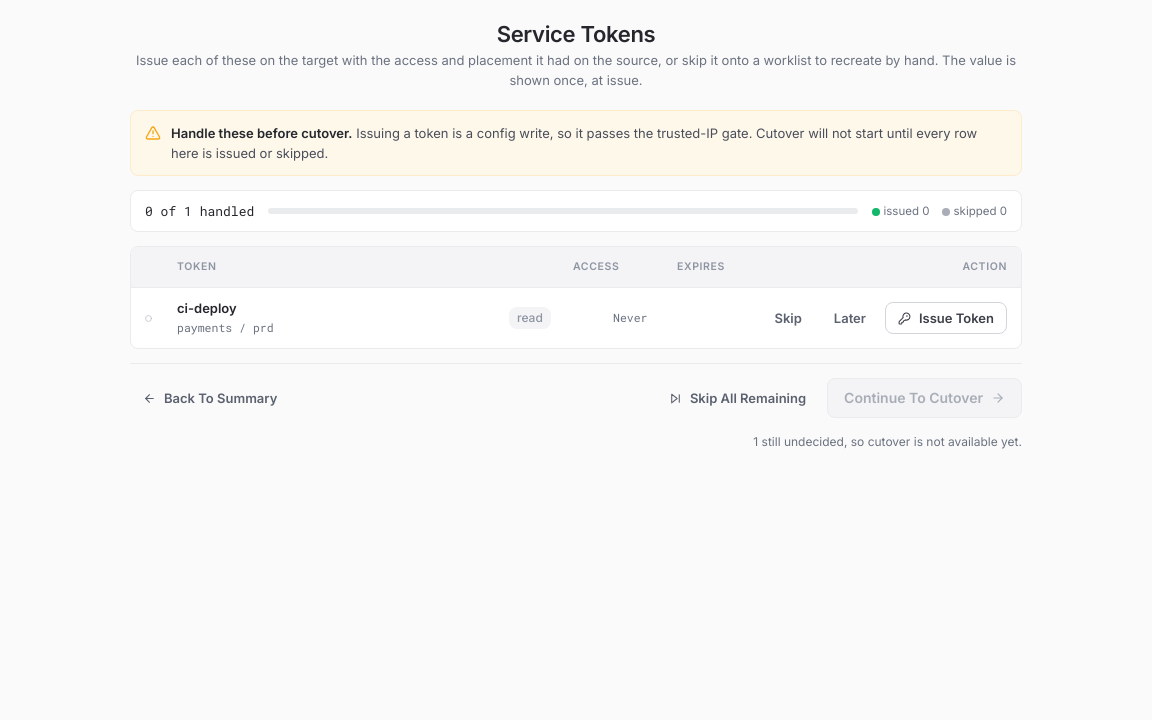
Test: ServiceTokenReportPage › issuing › shows the value once, and says so
Step 1. Click the button "Issue Token" → (946, 318), box x1=885 y1=302 x2=1007 y2=334
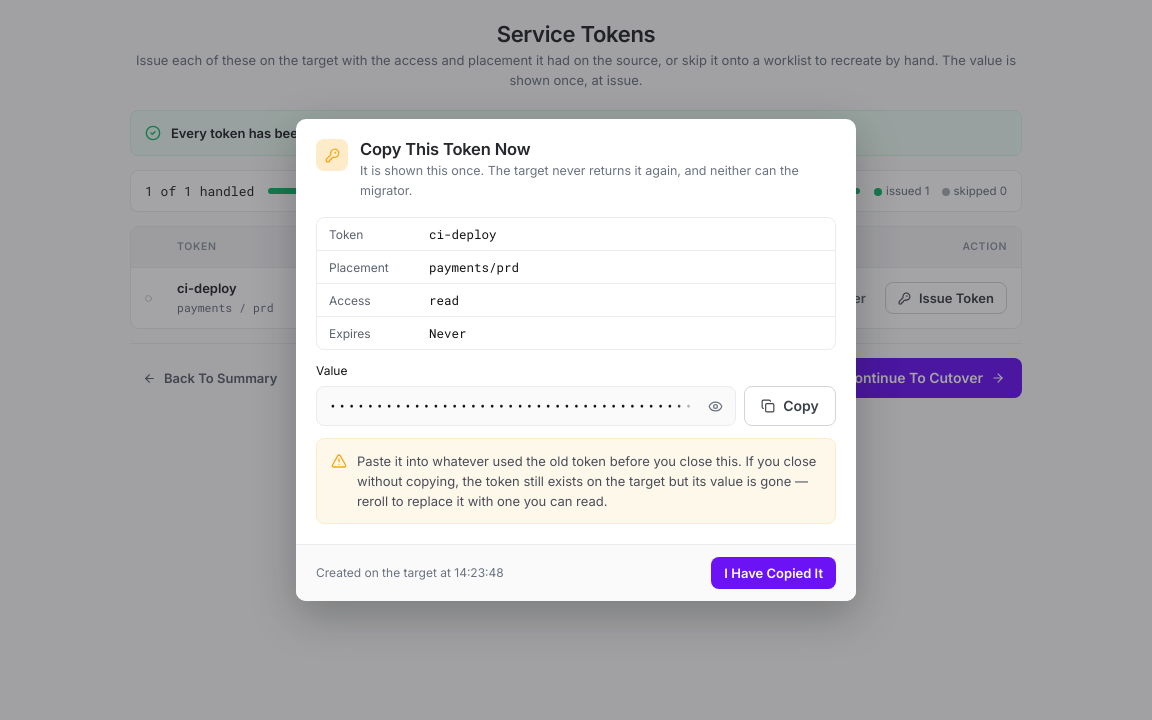
Expected: the text "dp.st.prd.SECRETVALUE" is not shown
Expected: the text "shown this once" is shown, x1=360 y1=163 x2=799 y2=198
Step 2. Click the button named "Show token" → (715, 406), box x1=699 y1=390 x2=731 y2=422
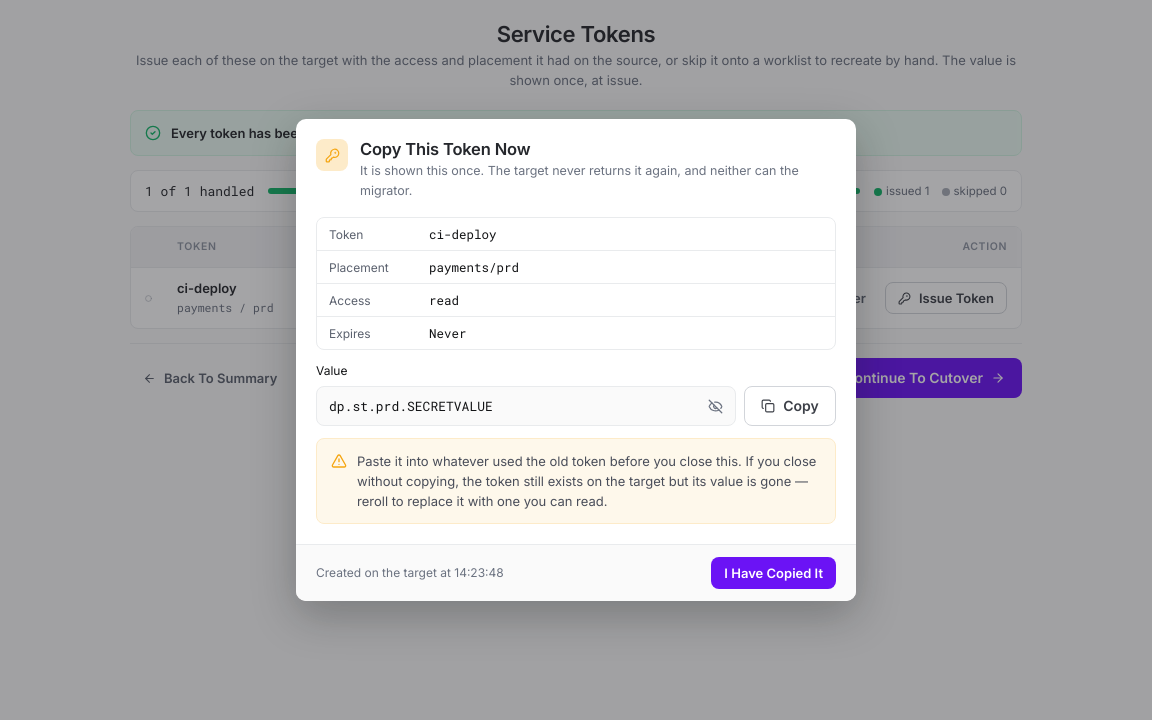
Expected: the text "dp.st.prd.SECRETVALUE" is shown, x1=329 y1=396 x2=493 y2=414
Step 3. Click the button named "Hide token" → (715, 406), box x1=699 y1=390 x2=731 y2=422
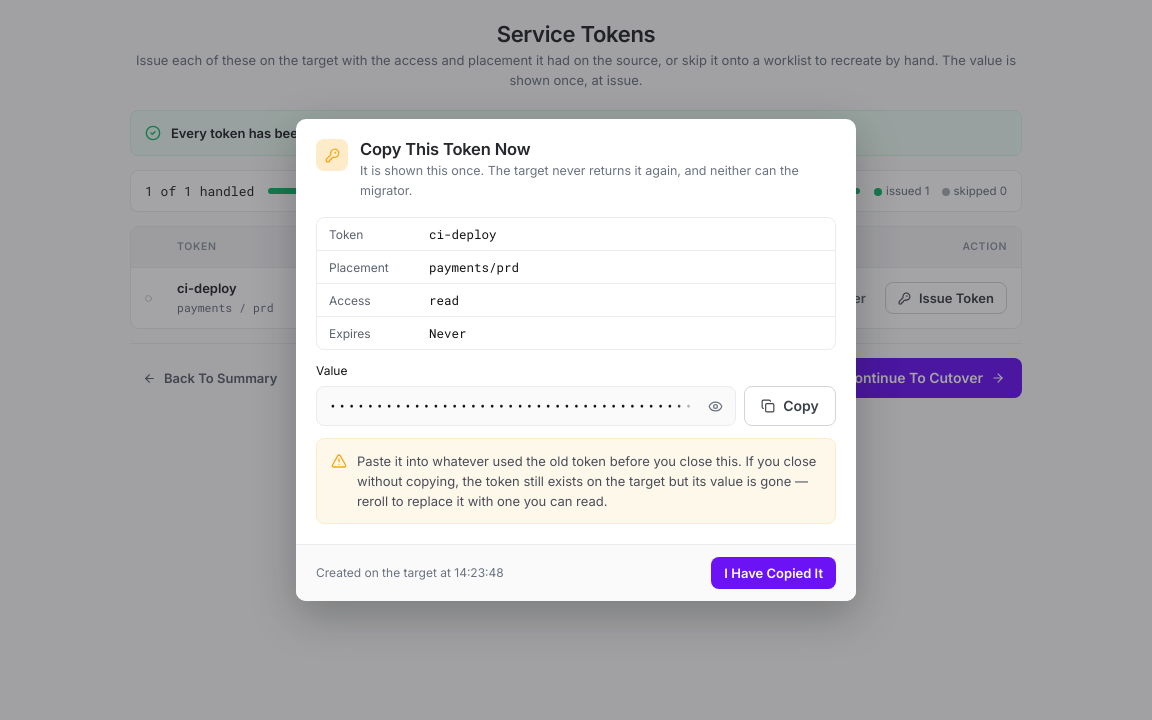
Expected: the text "dp.st.prd.SECRETVALUE" is gone
